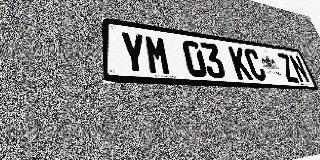0: (181, 39, 208, 78)
3: (200, 42, 226, 79)
C: (243, 48, 268, 81)
K: (228, 46, 253, 80)
M: (144, 34, 172, 76)
N: (287, 54, 311, 83)
Y: (119, 31, 148, 75)
Z: (276, 53, 300, 83)
